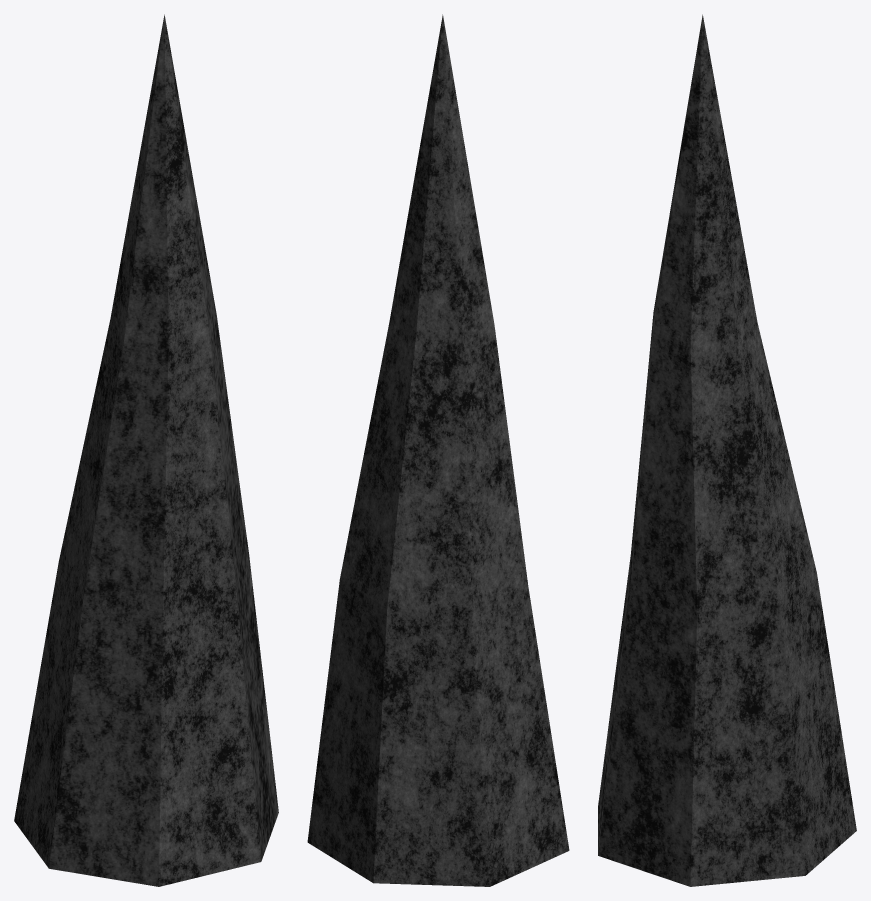
Rendered from Stalag.fbx.
3 views of the same model, side by side, from view 1: azimuth 30°, elevation 25°; view 2: azimuth 150°, elevation 25°; view 3: azimuth 270°, elevation 25° (orthographic).
Parts seen in each view (by area): view 1: Stalag; view 2: Stalag; view 3: Stalag.
Boxes of the visible parts, box(x1,y1,x2,y2) form: Stalag: box(14, 14, 278, 886); Stalag: box(307, 14, 569, 886); Stalag: box(598, 14, 856, 886).
Size of the model in its own units: 156 by 531 by 152.
Materials: 1 (1 with a texture image).
